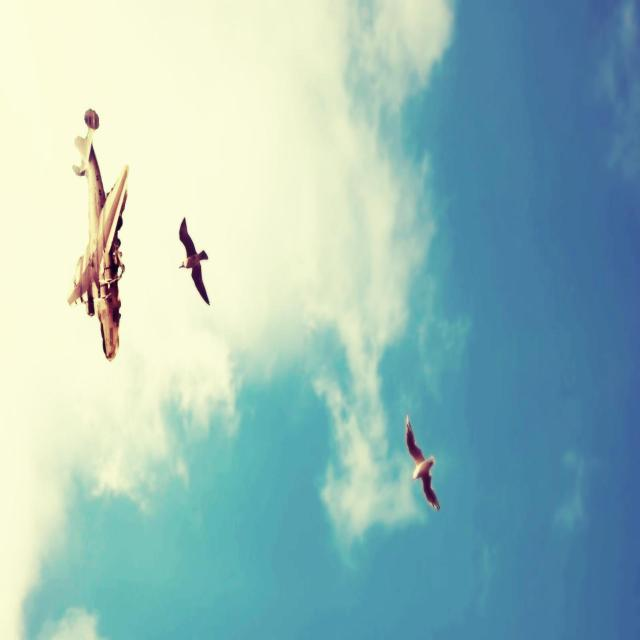airplane: (67, 107, 129, 361)
